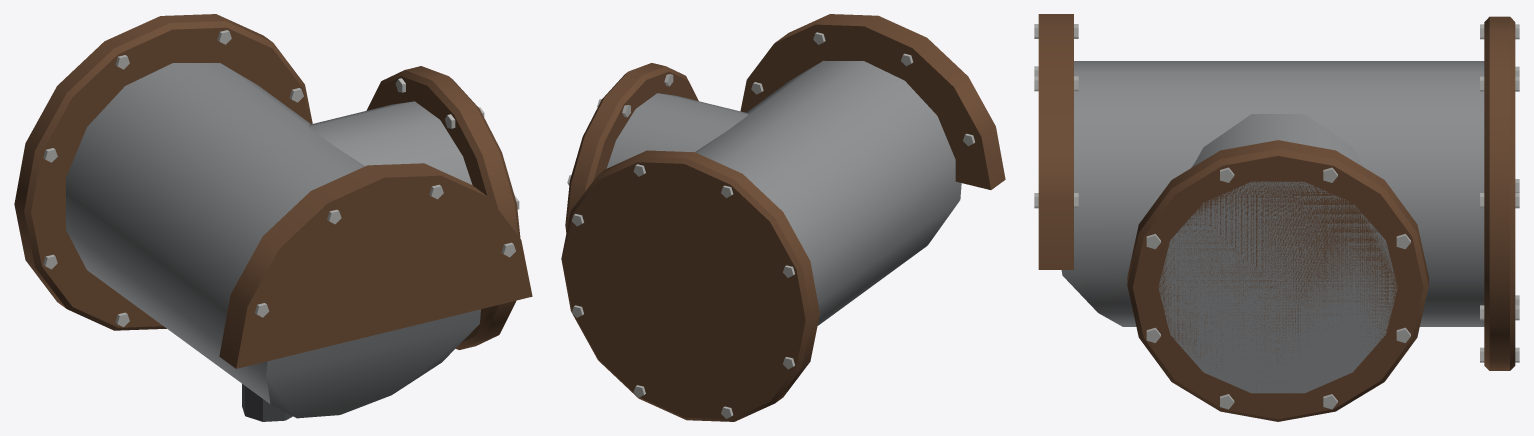
The model's file is pipe-t-right.glb.
3 renders of one model, left to right at view 1: azimuth 30°, elevation 25°; view 2: azimuth 150°, elevation 25°; view 3: azimuth 270°, elevation 25°, orthographic. The views are drawn at different scales.
Parts seen in each view (by area): view 1: body; view 2: body; view 3: body.
Boxes of the visible parts, box(x1,y1,x2,y2) form: body: box(14, 14, 532, 421); body: box(561, 14, 1005, 421); body: box(1034, 14, 1519, 421).
Size of the model in its own units: 0.916 by 0.826 by 1.1.
